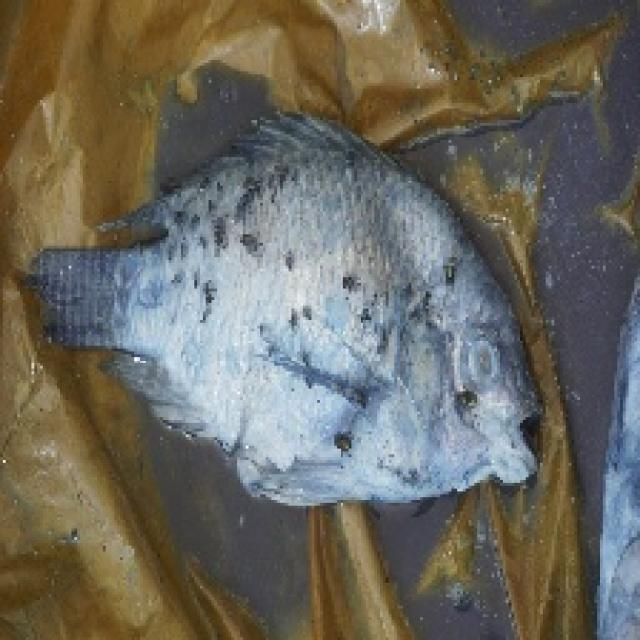Non-Fresh: (72, 130, 546, 512)
